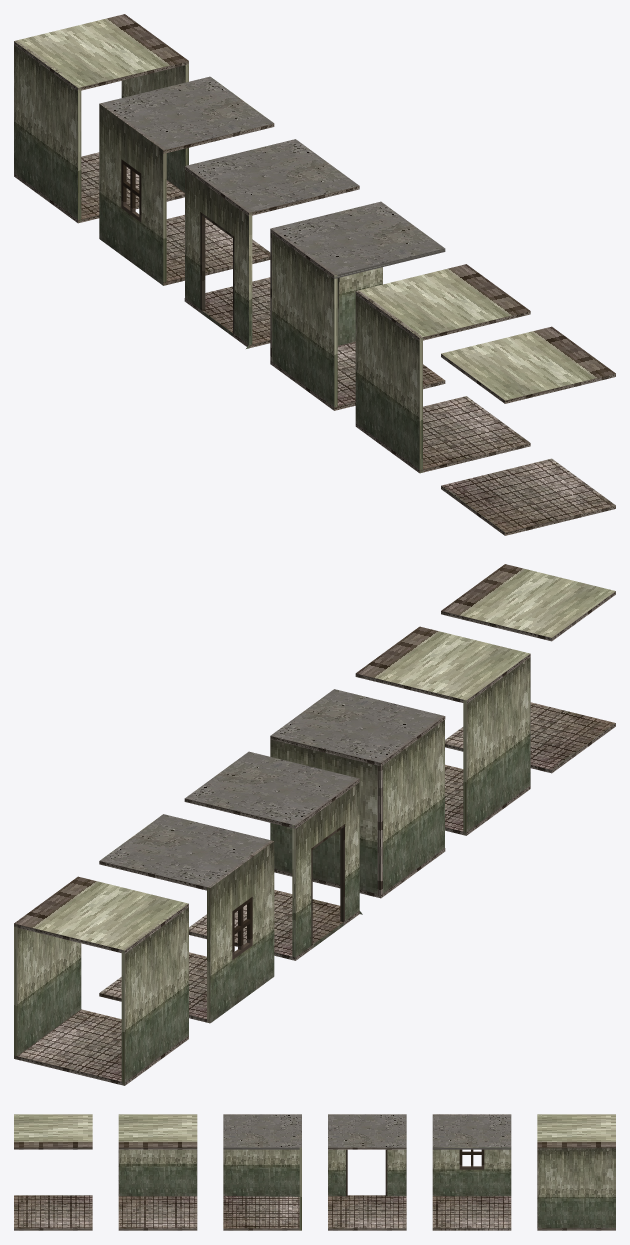
File: tileset.glb
3 renders of one model, top to bottom at view 1: azimuth 30°, elevation 25°; view 2: azimuth 150°, elevation 25°; view 3: azimuth 270°, elevation 25°, orthographic. The views are drawn at different scales.
Visible parts, largest first — view 1: wall-col, wall-col.001, corner-col, window-col, door-col, floor_col; view 2: wall-col.001, corner-col, window-col, wall-col, door-col, floor_col; view 3: wall-col, corner-col, wall-col.001, window-col, door-col, floor_col.
Boxes of the visible parts, x1,y1,x2,y2 form: wall-col: (355,264,530,473); wall-col.001: (14,14,188,223); corner-col: (270,201,445,410); window-col: (99,76,274,285); door-col: (184,139,359,348); floor_col: (441,326,615,535); wall-col.001: (14,876,188,1085); corner-col: (270,689,445,898); window-col: (99,814,274,1023); wall-col: (355,626,530,835); door-col: (184,751,362,960); floor_col: (441,564,615,773); wall-col: (118,1114,197,1230); corner-col: (223,1114,301,1230); wall-col.001: (537,1114,615,1230); window-col: (432,1114,511,1230); door-col: (328,1114,406,1230); floor_col: (14,1114,92,1230).
Bounding box in the file's own units: 3.09 × 3.5 × 23.
1 material, 1 textured.
